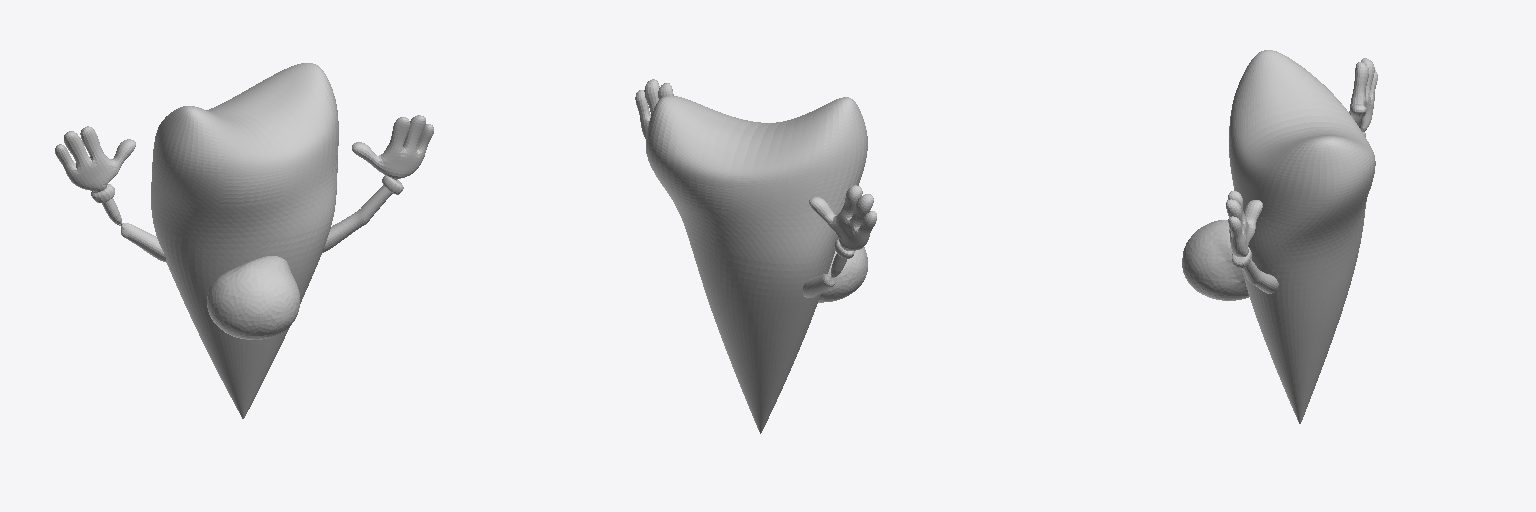
Rendered from java-duke7.obj.
3 views of the same model, side by side, from view 1: azimuth 30°, elevation 25°; view 2: azimuth 150°, elevation 25°; view 3: azimuth 270°, elevation 25° (orthographic).
Visible parts, largest first — view 1: javadude, javadude_hands, javadude_nase; view 2: javadude, javadude_hands, javadude_nase; view 3: javadude, javadude_hands, javadude_nase.
Boxes of the visible parts, box(x1,y1,x2,y2) form: javadude: box(151, 63, 338, 418); javadude_hands: box(55, 115, 433, 261); javadude_nase: box(207, 256, 299, 339); javadude: box(646, 96, 867, 433); javadude_hands: box(635, 79, 876, 297); javadude_nase: box(818, 247, 867, 302); javadude: box(1229, 50, 1375, 423); javadude_hands: box(1226, 58, 1377, 293); javadude_nase: box(1182, 220, 1248, 300).
Bounding box in the file's own units: 3.83 × 4.03 × 2.1.